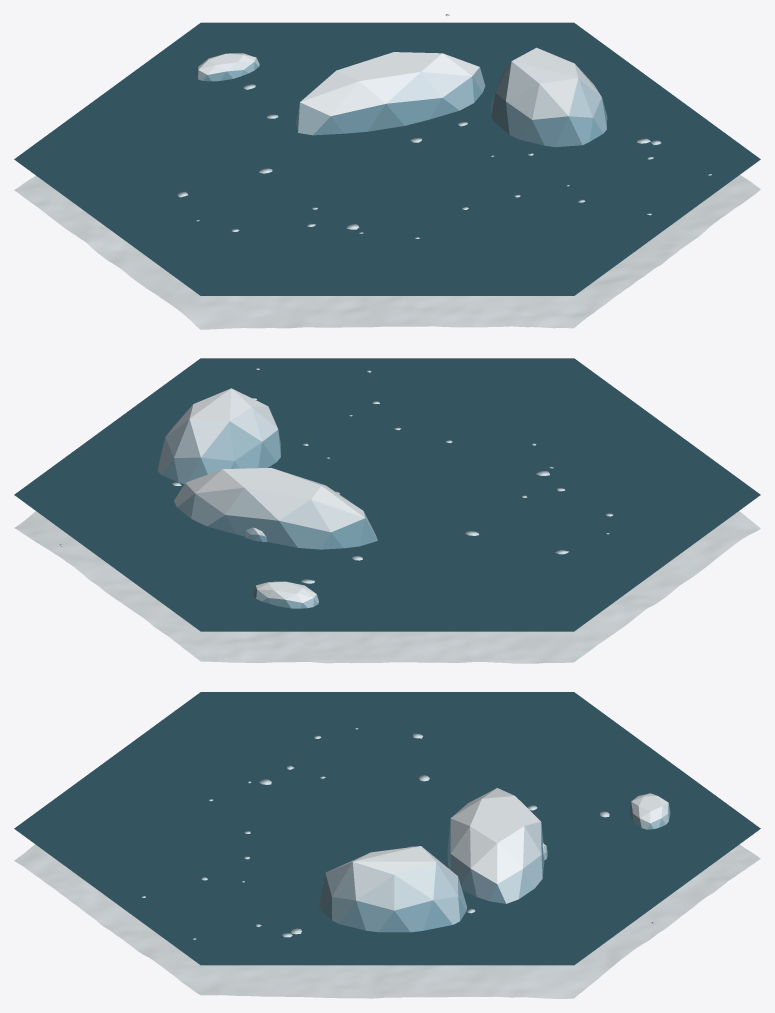
3 views of the same model, one above another, from view 1: azimuth 30°, elevation 25°; view 2: azimuth 150°, elevation 25°; view 3: azimuth 270°, elevation 25° (orthographic).
Parts seen in each view (by area): view 1: sea_level_0, terrain_v10, WG_20_berg_00, WG_20_berg_02, WG_20_berg_03; view 2: sea_level_0, terrain_v10, WG_20_berg_00, WG_20_berg_02, WG_20_berg_03; view 3: sea_level_0, terrain_v10, WG_20_berg_02, WG_20_berg_00, WG_20_berg_03.
Part boxes in pixels (x1,y1,x2,y2): sea_level_0: (14,22,760,295); terrain_v10: (14,175,760,329); WG_20_berg_00: (295,52,485,135); WG_20_berg_02: (490,47,607,147); WG_20_berg_03: (194,53,259,81); sea_level_0: (14,358,760,631); terrain_v10: (14,511,760,663); WG_20_berg_00: (174,467,377,549); WG_20_berg_02: (157,388,280,483); WG_20_berg_03: (253,581,318,608); sea_level_0: (14,692,760,965); terrain_v10: (14,844,760,998); WG_20_berg_02: (319,846,467,932); WG_20_berg_00: (447,788,544,903); WG_20_berg_03: (629,793,670,829).
Bounding box in the file's own units: 4330 × 1029 × 5000.
35 materials, 1 textured.
